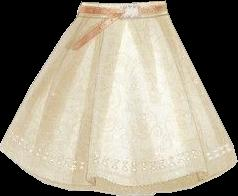Hemline: (0, 147, 237, 186)
Waistline: (75, 12, 168, 21), (80, 0, 164, 4)
